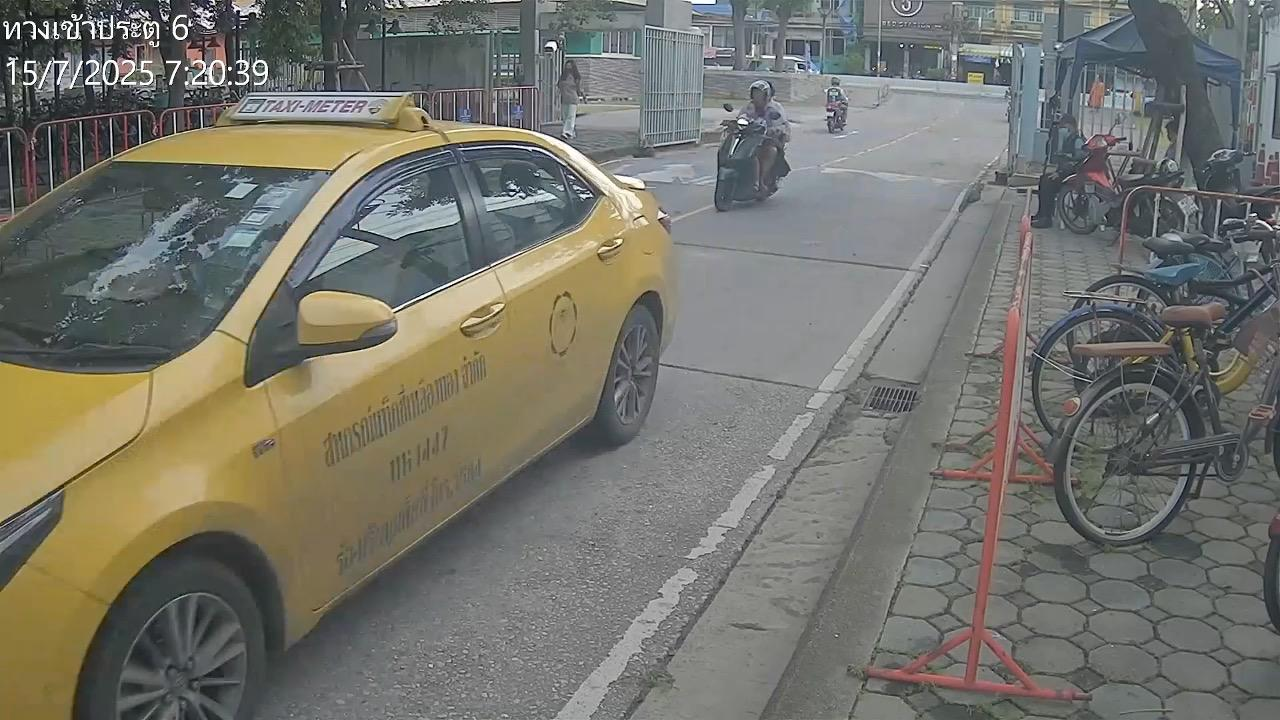With-Helmet: (749, 79, 773, 106)
